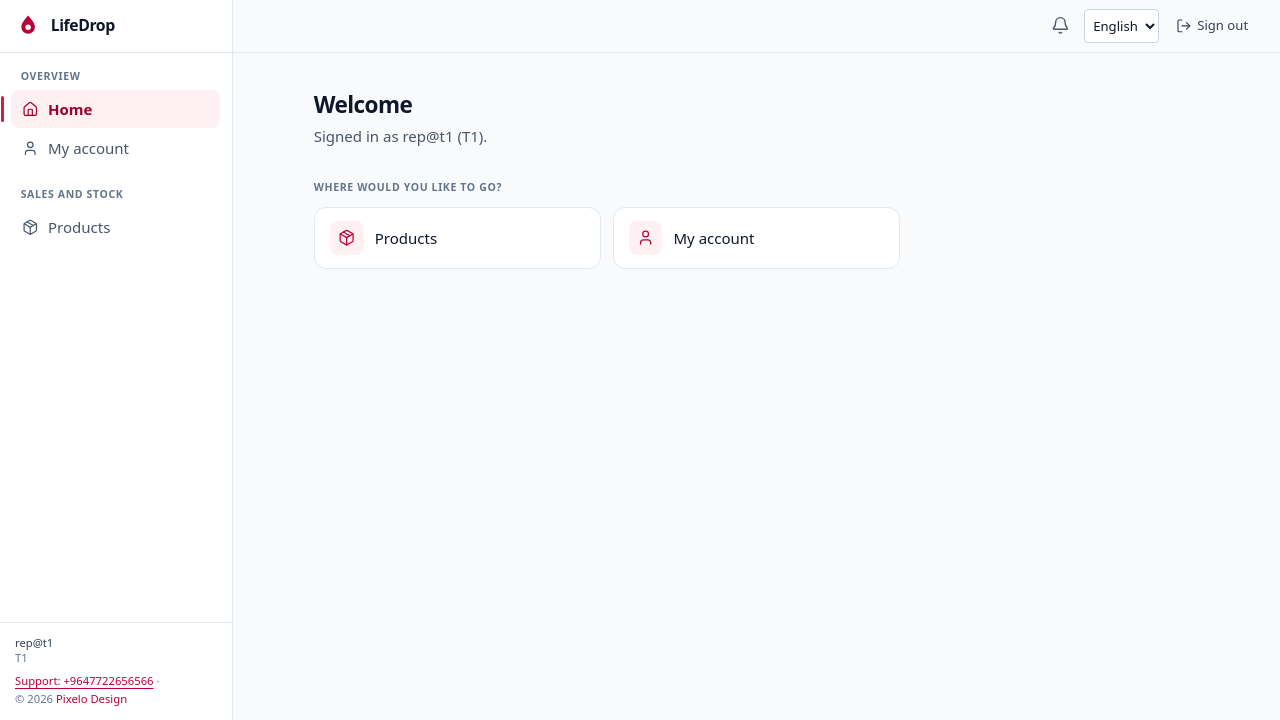
Test case: panel management screens › shows a reader the products without any change buttons
Step 1. Click the button "Products" → (116, 227), box [11,209,220,246]
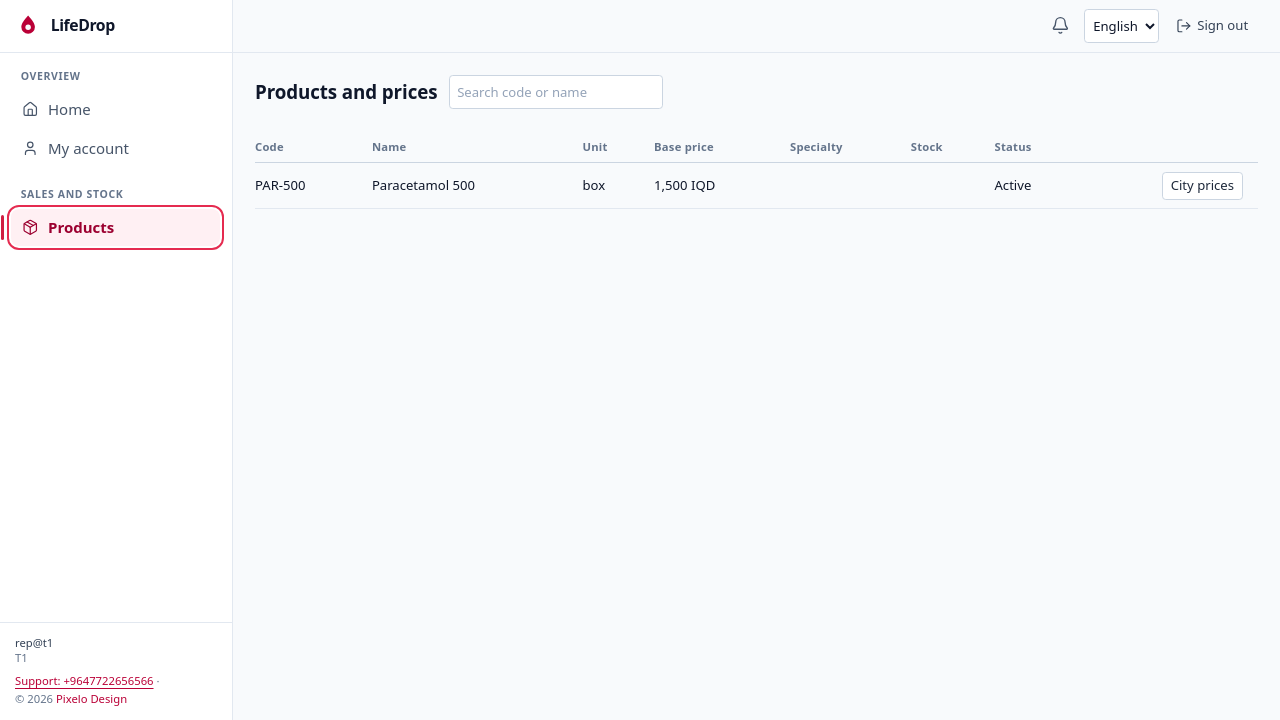
Expected: the text "PAR-500" is shown, [255,163,372,209]
Step 2. Click the button with aria-label "City prices of PAR-500" → (1202, 186), box [1162,172,1242,200]
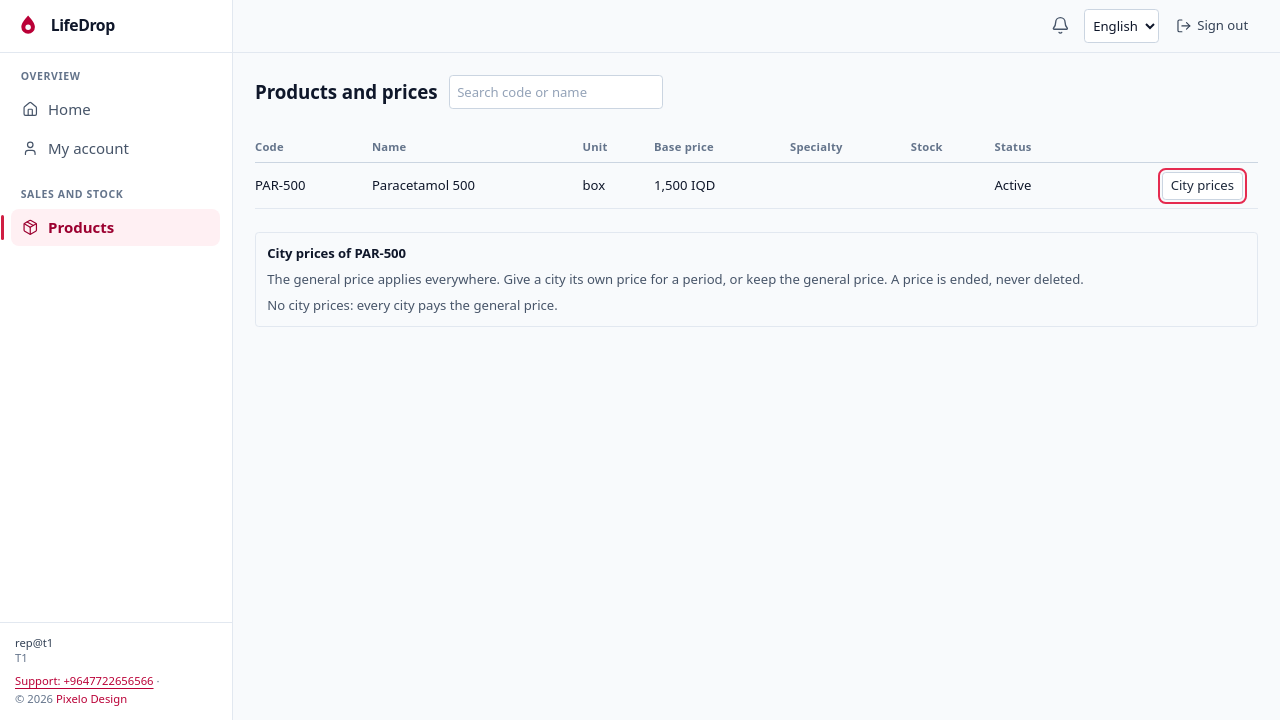
Expected: the text "No city prices: every city pays the general price." is shown, [267,296,558,314]
